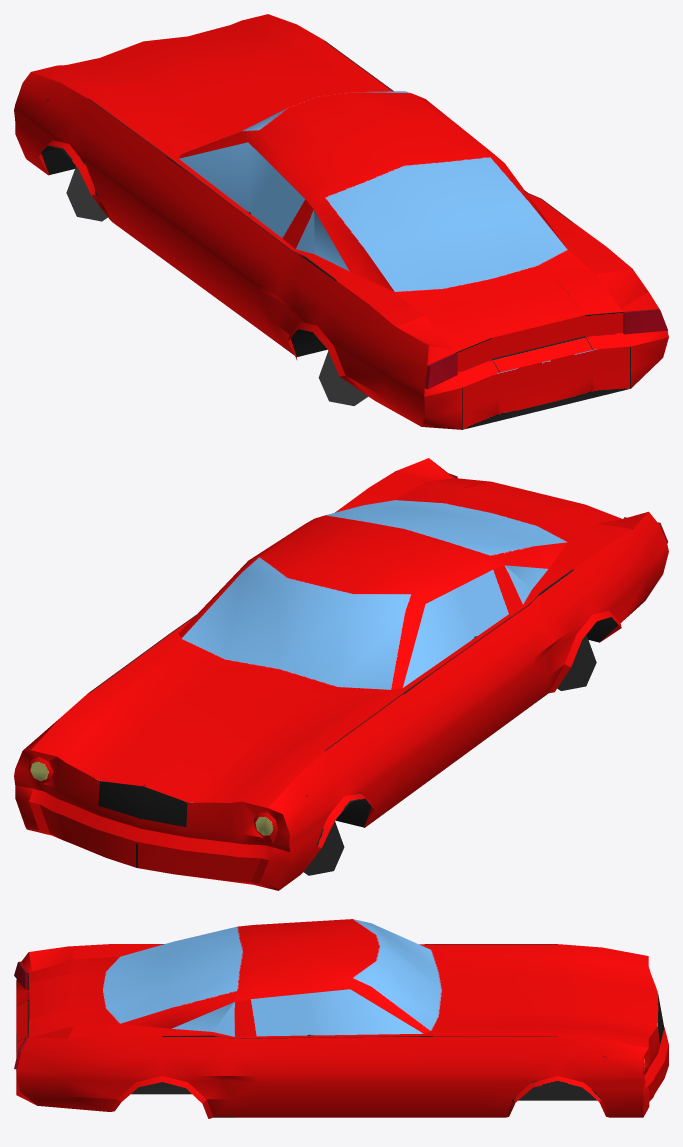
File: stallion.obj
The picture shows the model from 3 angles, top to bottom: view 1: azimuth 30°, elevation 25°; view 2: azimuth 150°, elevation 25°; view 3: azimuth 270°, elevation 25°; orthographic projection. The views are drawn at different scales.
Parts seen in each view (by area): view 1: Chassis, SOCKET_WHEEL_RL, SOCKET_WHEEL_FL; view 2: Chassis, SOCKET_WHEEL_RL, SOCKET_WHEEL_FL; view 3: Chassis.
Boxes of the visible parts, x1,y1,x2,y2 form: Chassis: (14,14,668,429); SOCKET_WHEEL_RL: (318,351,368,405); SOCKET_WHEEL_FL: (66,166,107,221); Chassis: (14,458,668,890); SOCKET_WHEEL_RL: (557,634,596,690); SOCKET_WHEEL_FL: (303,821,344,875); Chassis: (14,919,668,1118).
Size of the model in its own units: 1.67 by 1.01 by 4.11.
1 material, 1 textured.
